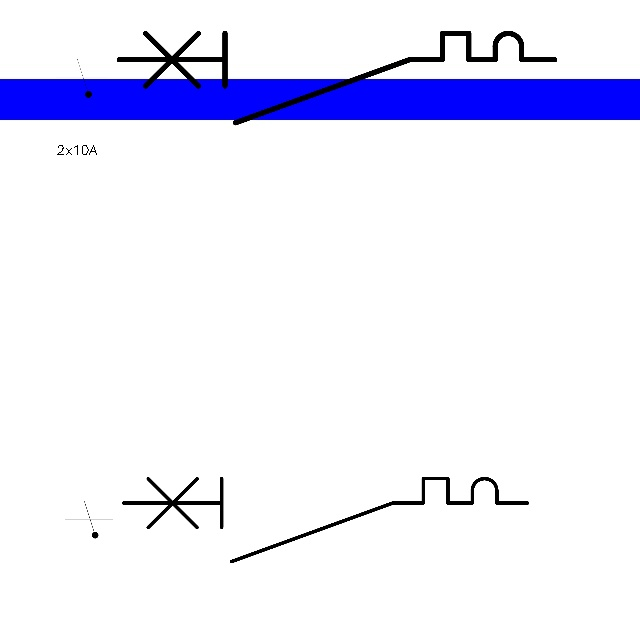interruptor_termomagnetico: (107, 22, 566, 134), (113, 468, 537, 572)
